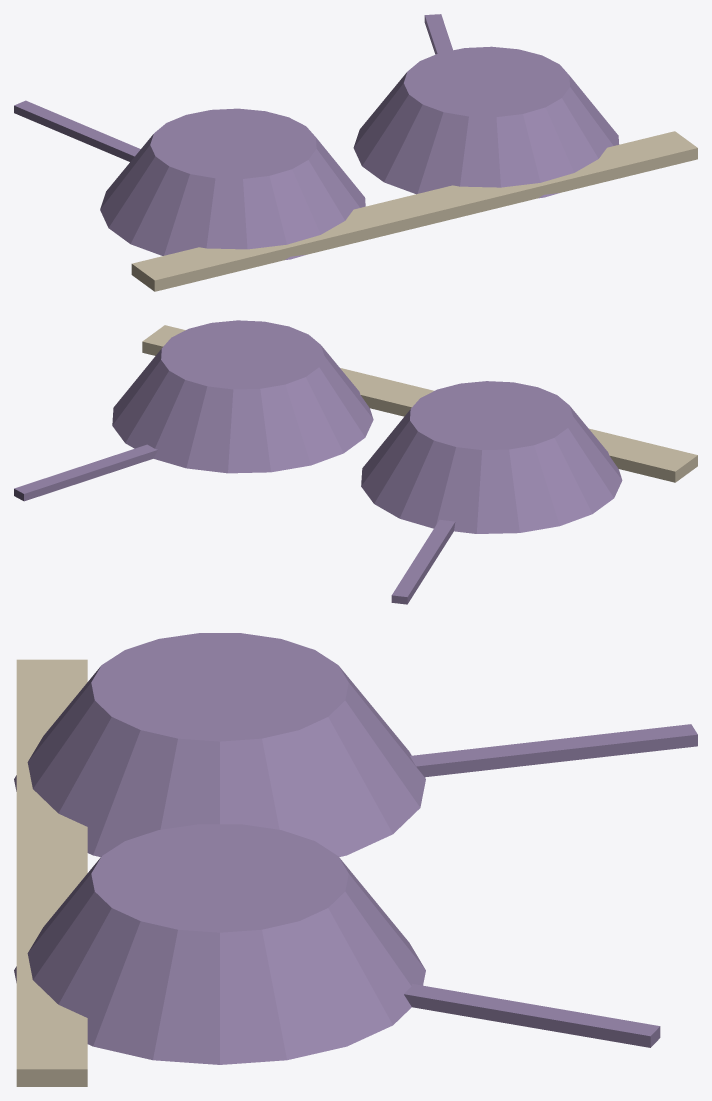
The model's file is bra-dropped-mint.glb.
3 renders of one model, top to bottom at view 1: azimuth 30°, elevation 25°; view 2: azimuth 150°, elevation 25°; view 3: azimuth 270°, elevation 25°, orthographic. The views are drawn at different scales.
Visible parts, largest first — view 1: accent-lilac, paper; view 2: accent-lilac, paper; view 3: accent-lilac, paper.
Part boxes in pixels (<box>): accent-lilac: <box>14,14,619,259</box>; paper: <box>131,131,697,291</box>; accent-lilac: <box>14,320,622,604</box>; paper: <box>142,325,697,482</box>; accent-lilac: <box>14,633,697,1064</box>; paper: <box>16,659,87,1086</box>.
Bounding box in the file's own units: 0.3 × 0.034 × 0.2118.
